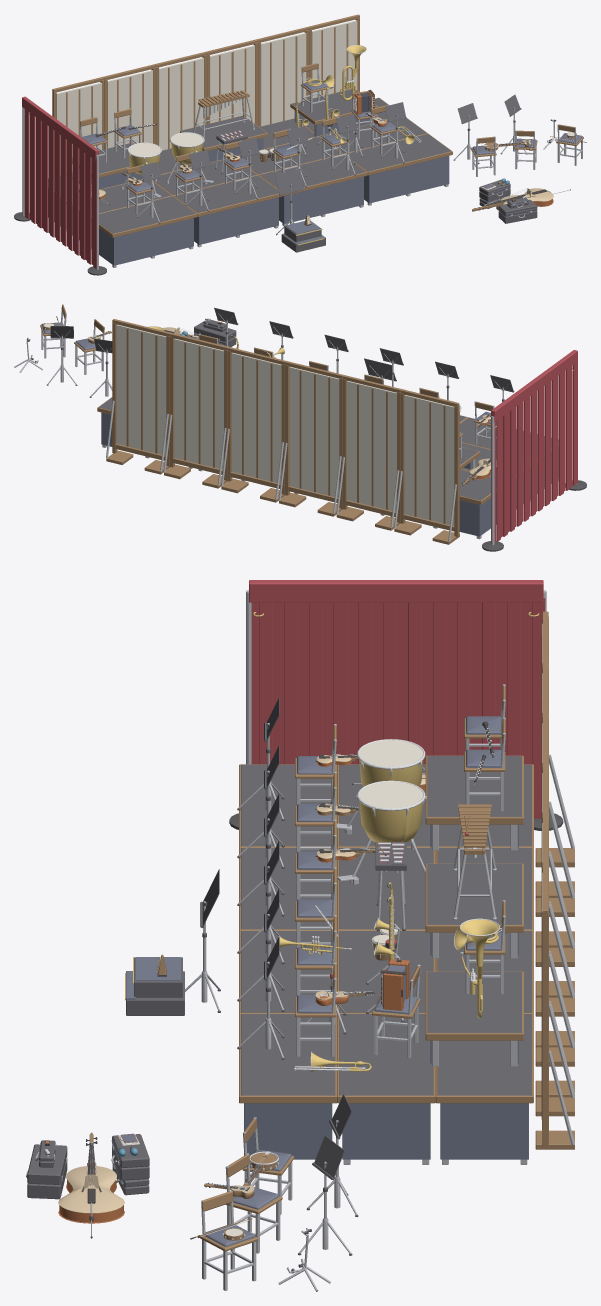
The model's file is orchestra-and-band-instruments-concert-s-8aaba2c3-starter-scene.glb.
The picture shows the model from 3 angles, top to bottom: view 1: azimuth 30°, elevation 25°; view 2: azimuth 150°, elevation 25°; view 3: azimuth 270°, elevation 25°; orthographic projection. The views are drawn at different scales.
Parts seen in each view (by area): view 1: 021-stage-curtain/2, 019-acoustic-shell-panel/2, 017-acoustic-shell-panel/2, 002-stage-platform-module/3, 016-acoustic-shell-panel/2, 018-acoustic-shell-panel/2, 011-stage-platform-module/3, 005-stage-platform-module/3, 008-stage-platform-module/3, 020-acoustic-shell-panel/2, 015-acoustic-shell-panel/2, 002-stage-platform-module/1 (+34 smaller); view 2: 021-stage-curtain/2, 015-acoustic-shell-panel/2, 020-acoustic-shell-panel/2, 017-acoustic-shell-panel/2, 019-acoustic-shell-panel/2, 018-acoustic-shell-panel/2, 016-acoustic-shell-panel/2, 015-acoustic-shell-panel/0, 019-acoustic-shell-panel/0, 017-acoustic-shell-panel/0, 020-acoustic-shell-panel/0, 018-acoustic-shell-panel/0 (+10 smaller); view 3: 021-stage-curtain/2, 011-stage-platform-module/1, 010-stage-platform-module/1, 004-stage-platform-module/1, 014-stage-riser/1, 009-stage-platform-module/1, 013-stage-riser/1, 009-stage-platform-module/3, 002-stage-platform-module/1, 010-stage-platform-module/3, 007-stage-platform-module/1, 008-stage-platform-module/1 (+33 smaller).
Boxes of the visible parts, bbox=[...] form: 021-stage-curtain/2: bbox=[22, 96, 98, 269]; 019-acoustic-shell-panel/2: bbox=[261, 32, 306, 126]; 017-acoustic-shell-panel/2: bbox=[159, 57, 203, 150]; 002-stage-platform-module/3: bbox=[99, 218, 193, 265]; 016-acoustic-shell-panel/2: bbox=[107, 70, 152, 148]; 018-acoustic-shell-panel/2: bbox=[210, 45, 254, 123]; 011-stage-platform-module/3: bbox=[364, 156, 449, 203]; 005-stage-platform-module/3: bbox=[194, 197, 278, 244]; 008-stage-platform-module/3: bbox=[279, 176, 363, 224]; 020-acoustic-shell-panel/2: bbox=[312, 20, 357, 98]; 015-acoustic-shell-panel/2: bbox=[56, 82, 101, 174]; 002-stage-platform-module/1: bbox=[91, 196, 195, 233]; 021-stage-curtain/2: bbox=[491, 350, 577, 543]; 015-acoustic-shell-panel/2: bbox=[404, 395, 454, 525]; 020-acoustic-shell-panel/2: bbox=[116, 324, 166, 455]; 017-acoustic-shell-panel/2: bbox=[289, 366, 339, 497]; 019-acoustic-shell-panel/2: bbox=[174, 338, 223, 469]; 018-acoustic-shell-panel/2: bbox=[232, 352, 281, 483]; 016-acoustic-shell-panel/2: bbox=[347, 381, 396, 511]; 015-acoustic-shell-panel/0: bbox=[394, 389, 459, 544]; 019-acoustic-shell-panel/0: bbox=[164, 333, 228, 488]; 017-acoustic-shell-panel/0: bbox=[279, 361, 343, 516]; 020-acoustic-shell-panel/0: bbox=[106, 319, 170, 474]; 018-acoustic-shell-panel/0: bbox=[221, 347, 286, 502]; 021-stage-curtain/2: bbox=[249, 580, 545, 818]; 011-stage-platform-module/1: bbox=[241, 1014, 335, 1095]; 010-stage-platform-module/1: bbox=[339, 1014, 433, 1095]; 004-stage-platform-module/1: bbox=[339, 848, 433, 929]; 014-stage-riser/1: bbox=[427, 972, 521, 1032]; 009-stage-platform-module/1: bbox=[437, 1014, 531, 1095]; 013-stage-riser/1: bbox=[427, 864, 521, 924]; 009-stage-platform-module/3: bbox=[440, 1103, 528, 1159]; 002-stage-platform-module/1: bbox=[241, 764, 330, 846]; 010-stage-platform-module/3: bbox=[342, 1103, 430, 1159]; 007-stage-platform-module/1: bbox=[339, 931, 433, 1012]; 008-stage-platform-module/1: bbox=[241, 931, 330, 1012].
Bounding box in the file's own units: 11.5 × 2.71 × 5.59.
